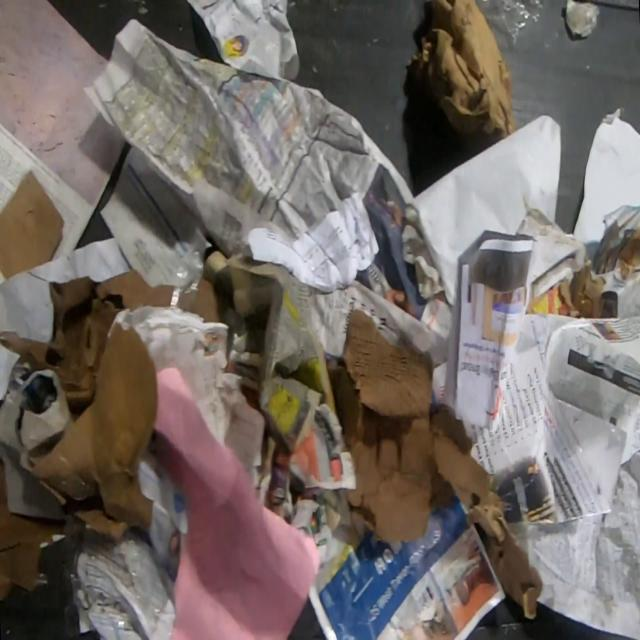cardboard: (324, 304, 542, 621), (0, 267, 174, 539), (405, 0, 518, 149), (0, 358, 70, 522), (0, 461, 64, 604), (0, 166, 64, 280), (525, 258, 608, 320), (286, 342, 339, 416), (193, 276, 235, 324)
soft_plastic: (62, 518, 176, 640), (169, 217, 207, 314), (476, 0, 547, 51)
